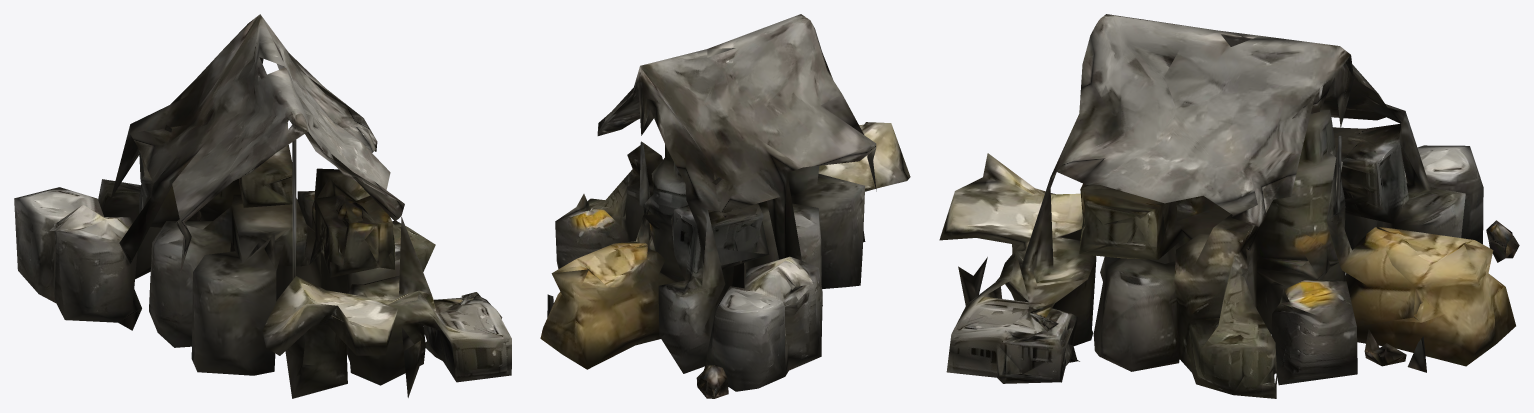
File: b_storage.glb
3 renders of one model, left to right at view 1: azimuth 30°, elevation 25°; view 2: azimuth 150°, elevation 25°; view 3: azimuth 270°, elevation 25°, orthographic. The views are drawn at different scales.
Visible parts, largest first — view 1: tripo_node_c849b1bb-c314-45ba-9289-7c5f5e737a77; view 2: tripo_node_c849b1bb-c314-45ba-9289-7c5f5e737a77; view 3: tripo_node_c849b1bb-c314-45ba-9289-7c5f5e737a77.
Part boxes in pixels (bbox=[...]): tripo_node_c849b1bb-c314-45ba-9289-7c5f5e737a77: bbox=[14, 14, 511, 398]; tripo_node_c849b1bb-c314-45ba-9289-7c5f5e737a77: bbox=[540, 14, 910, 398]; tripo_node_c849b1bb-c314-45ba-9289-7c5f5e737a77: bbox=[939, 14, 1519, 398].
Bounding box in the file's own units: 0.6931 × 0.5927 × 1.
1 material, 1 textured.
